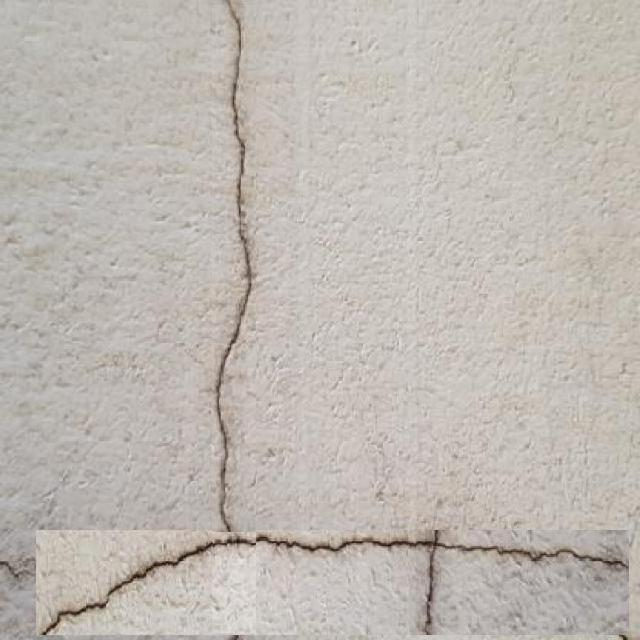crack: (0, 475, 640, 640), (191, 2, 287, 538)
